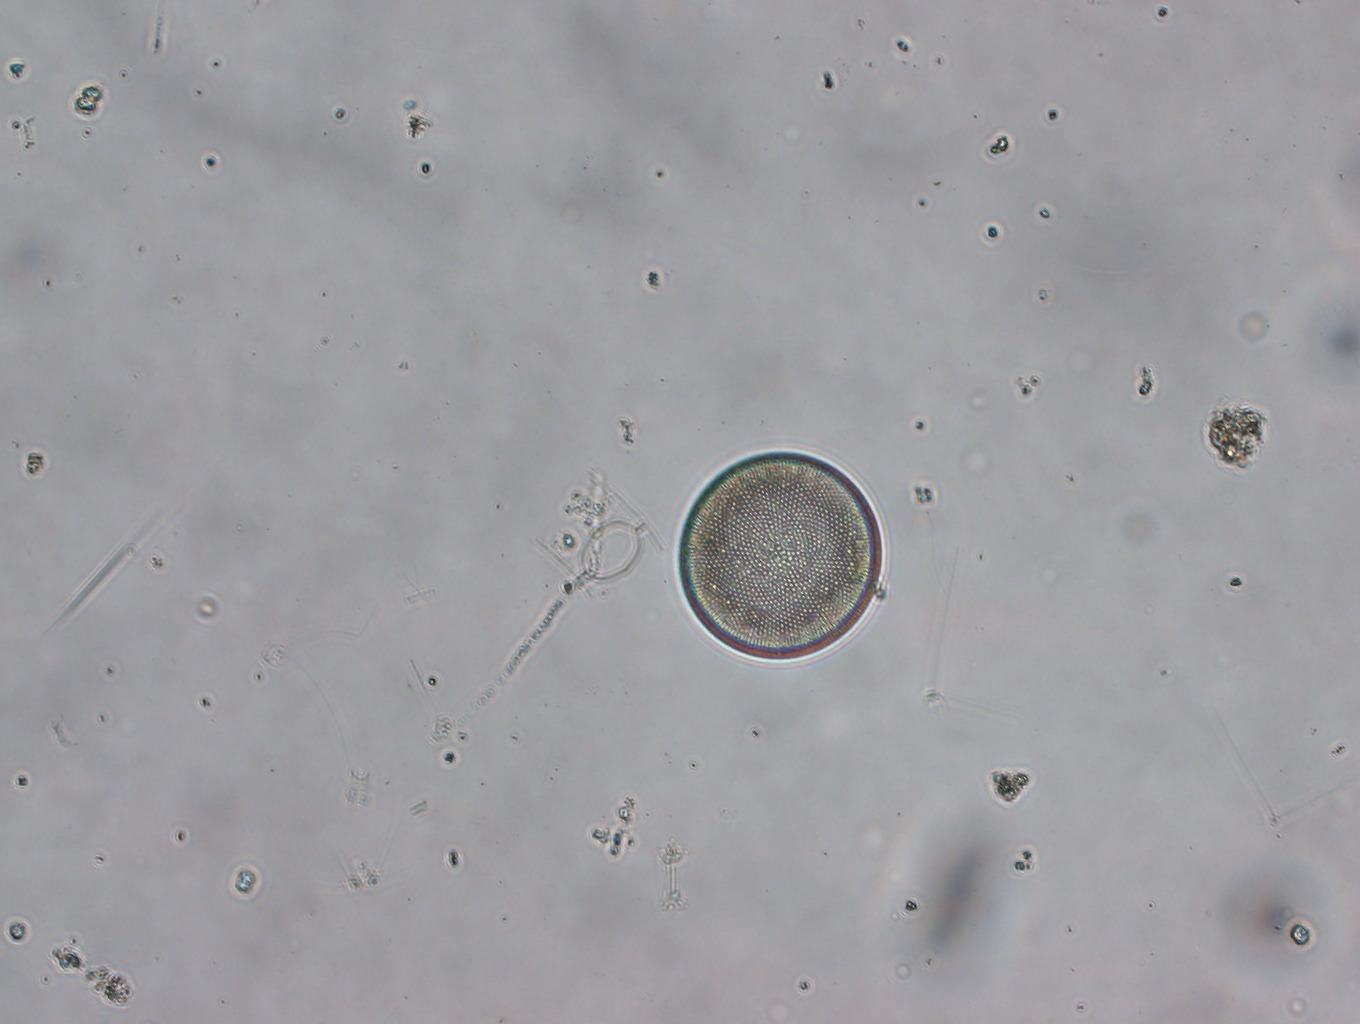coscinodiscus: (675, 450, 894, 669)
